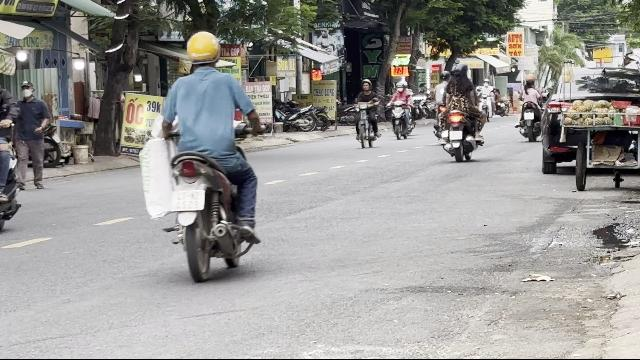helmet: (183, 31, 221, 71)
licenseplate: (171, 189, 205, 211)
motorcyclist: (138, 31, 266, 279)
